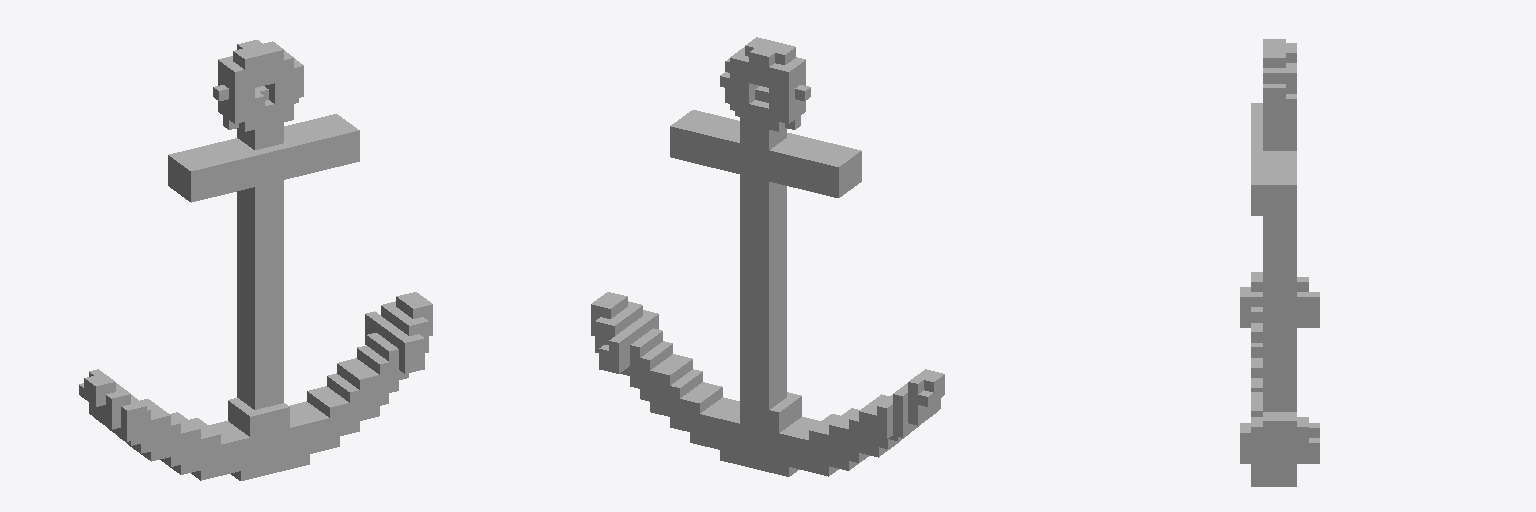
3 renders of one model, left to right at view 1: azimuth 30°, elevation 25°; view 2: azimuth 150°, elevation 25°; view 3: azimuth 270°, elevation 25°, orthographic.
Visible parts, largest first — view 1: object 1; view 2: object 1; view 3: object 1.
Boxes of the visible parts, box(x1,y1,x2,y2) form: object 1: box(79, 40, 432, 480); object 1: box(591, 37, 944, 476); object 1: box(1240, 39, 1319, 486).
Bounding box in the file's own units: 3.4 × 4 × 0.7.
1 materials, 1 textured.